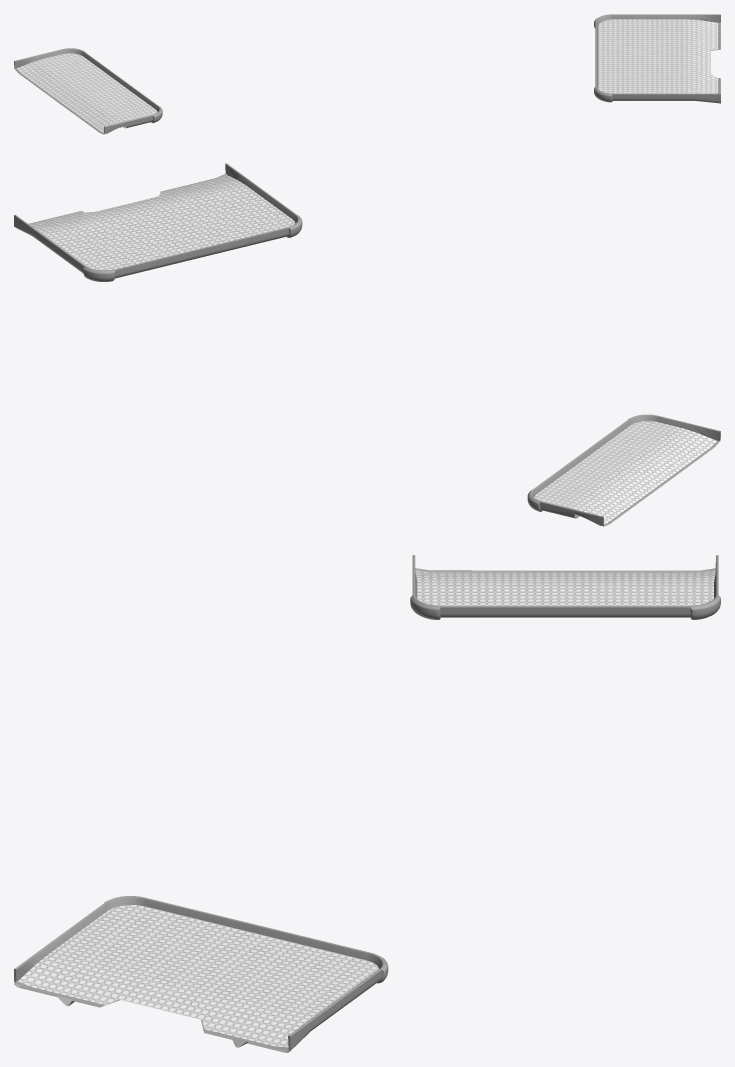
File: TunnelPlatform.fbx
3 renders of one model, top to bottom at view 1: azimuth 30°, elevation 25°; view 2: azimuth 150°, elevation 25°; view 3: azimuth 270°, elevation 25°, orthographic. The views are drawn at different scales.
Parts seen in each view (by area): view 1: TunnelPlatformStartFloor, TunnelPlatformRim; view 2: TunnelPlatformStartFloor, TunnelPlatformRim; view 3: TunnelPlatformStartFloor, TunnelPlatformRim.
Boxes of the visible parts, x1,y1,x2,y2 form: TunnelPlatformStartFloor: (17, 19, 718, 132); TunnelPlatformRim: (14, 14, 720, 134); TunnelPlatformStartFloor: (30, 175, 716, 524); TunnelPlatformRim: (14, 163, 720, 526); TunnelPlatformStartFloor: (18, 570, 715, 1047); TunnelPlatformRim: (14, 555, 720, 1052).
Size of the model in its own units: 1211 by 32.7 by 757.
2 materials, 1 textured.
